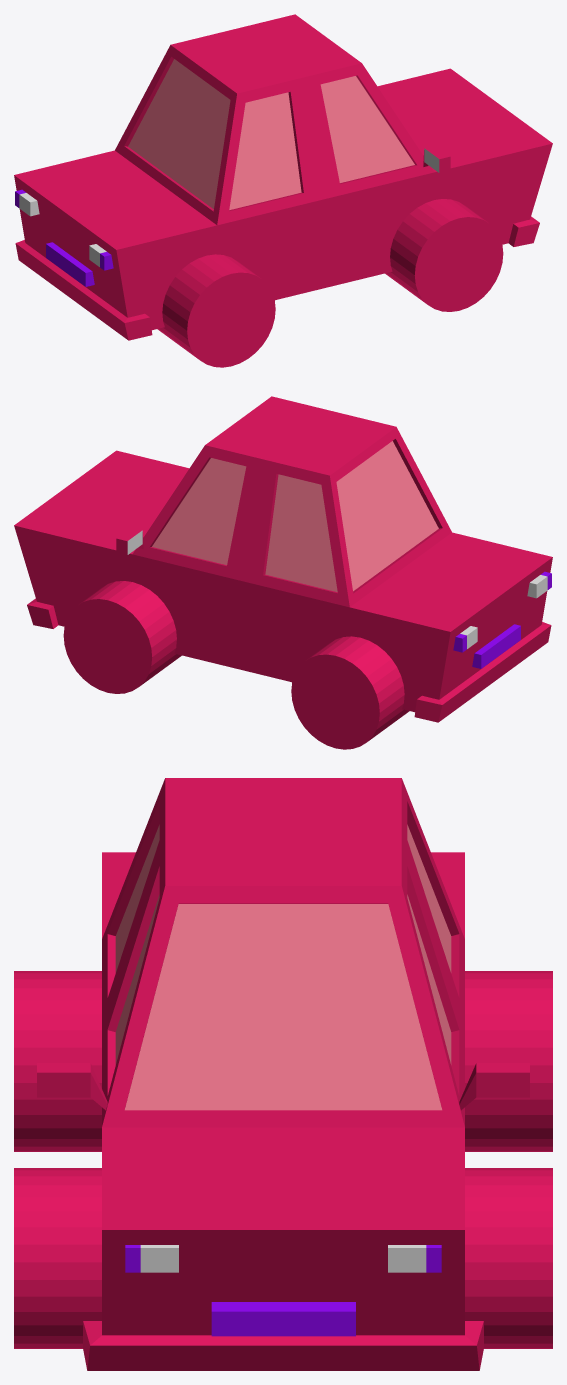
The model's file is Mobil.fbx.
3 views of the same model, one above another, from view 1: azimuth 30°, elevation 25°; view 2: azimuth 150°, elevation 25°; view 3: azimuth 270°, elevation 25° (orthographic). The views are drawn at different scales.
Parts seen in each view (by area): view 1: Car, Cylinder.001, Cylinder, Cube.005, Cube.002, Cube.003; view 2: Car, Cylinder.001, Cylinder, Cube.005, Cube.002, Cube.003; view 3: Car, Cylinder, Cylinder.001, Cube.004, Cube.003, Cube.001.
Part boxes in pixels (left/top/right/bottom): Car: left=14, top=14, right=552, bottom=340; Cylinder.001: left=157, top=254, right=275, bottom=367; Cylinder: left=385, top=199, right=503, bottom=311; Cube.005: left=46, top=242, right=94, bottom=286; Cube.002: left=15, top=189, right=113, bottom=270; Cube.003: left=423, top=145, right=450, bottom=173; Car: left=14, top=396, right=552, bottom=722; Cylinder.001: left=291, top=636, right=409, bottom=749; Cylinder: left=63, top=581, right=181, bottom=693; Cube.005: left=472, top=624, right=520, bottom=668; Cube.002: left=453, top=571, right=551, bottom=652; Cube.003: left=116, top=527, right=143, bottom=555; Car: left=83, top=778, right=483, bottom=1370; Cylinder: left=14, top=1168, right=552, bottom=1348; Cylinder.001: left=14, top=971, right=552, bottom=1151; Cube.004: left=211, top=1302, right=355, bottom=1336; Cube.003: left=37, top=1063, right=529, bottom=1110; Cube.001: left=125, top=1245, right=441, bottom=1272.
Size of what is drawn, in the model's own units: 499 by 248 by 297.
